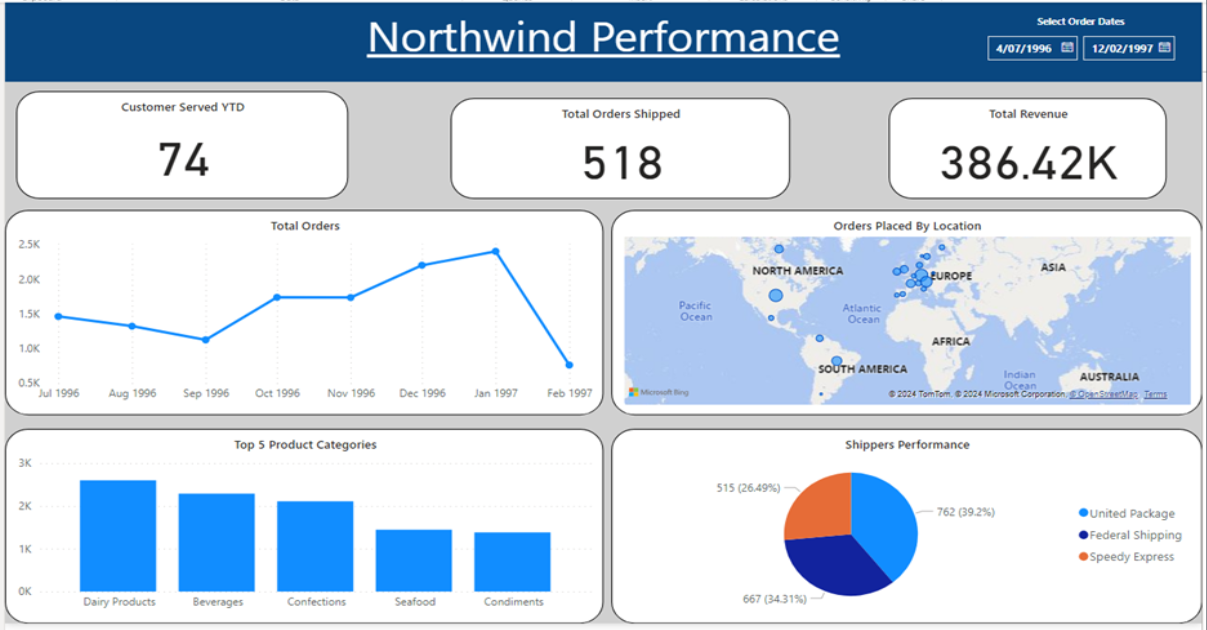

This screenshot's page, from the dashboard's own definition file:
{"tool":"powerbi","page":{"name":"Page 1","canvas":[1280,720],"ordinal":0},"visuals":[{"type":"textbox","box":[0,0,1280,92.4],"z":0},{"type":"lineChart","title":"Total Orders","fields":{"Y":["Sum(FACT_ORDERS.QUANTITY)"],"Category":["FACT_ORDERS.ORDERDATE.Variation.Date Hierarchy.Year","FACT_ORDERS.ORDERDATE.Variation.Date Hierarchy.Quarter","FACT_ORDERS.ORDERDATE.Variation.Date Hierarchy.Month","FACT_ORDERS.ORDERDATE.Variation.Date Hierarchy.Day"]},"box":[0,240.8,640.5,237.8],"z":2000},{"type":"card","title":"Customer Served YTD","fields":{"Values":["Count(FACT_ORDERS.CUSTOMERID)"]},"box":[12,102.9,354.7,124.9],"z":2001},{"type":"card","title":"Total Orders Shipped","fields":{"Values":["CountNonNull(FACT_ORDERS.ORDERID)"]},"box":[476.6,110.9,362.7,116.9],"z":2002},{"type":"card","title":"Total Revenue","fields":{"Values":["Sum(FACT_ORDERS.TOTALCOST)"]},"box":[945.3,110.9,296.8,116.9],"z":2003},{"type":"map","title":"Orders Placed By Location ","fields":{"Size":["Sum(FACT_ORDERS.QUANTITY)"],"Category":["FACT_ORDERS.CUSTOMERCOUNTRY"]},"box":[648.5,240.8,631.5,237.8],"z":2004},{"type":"clusteredColumnChart","title":"Top 5 Product Categories","fields":{"Category":["DIM_CATEGORIES.CATEGORYNAME","DIM_PRODUCTS.PRODUCTNAME"],"Y":["Sum(FACT_ORDERS.QUANTITY)"]},"box":[0,494.6,640.5,225.8],"z":2005},{"type":"pieChart","title":"Shippers Performance","fields":{"Y":["Sum(FACT_ORDERS.QUANTITY)"],"Category":["DIM_SHIPPERS.SHIPPERNAME"]},"box":[648.5,494.6,631.5,225.8],"z":2006},{"type":"slicer","title":"Select Order Dates","fields":{"Values":["FACT_ORDERS.ORDERDATE"]},"box":[1038.2,14,224.8,63],"z":2007}]}

Visuals, with their boxes in screenshot pixels (x1, y1, x2, y2):
textbox: l=50, t=0, r=1152, b=80
"Total Orders" lineChart: l=50, t=207, r=602, b=412
"Customer Served YTD" card: l=61, t=89, r=366, b=196
"Total Orders Shipped" card: l=461, t=95, r=773, b=196
"Total Revenue" card: l=864, t=95, r=1120, b=196
"Orders Placed By Location " map: l=609, t=207, r=1152, b=412
"Top 5 Product Categories" clusteredColumnChart: l=50, t=426, r=602, b=620
"Shippers Performance" pieChart: l=609, t=426, r=1152, b=620
"Select Order Dates" slicer: l=944, t=12, r=1138, b=66
